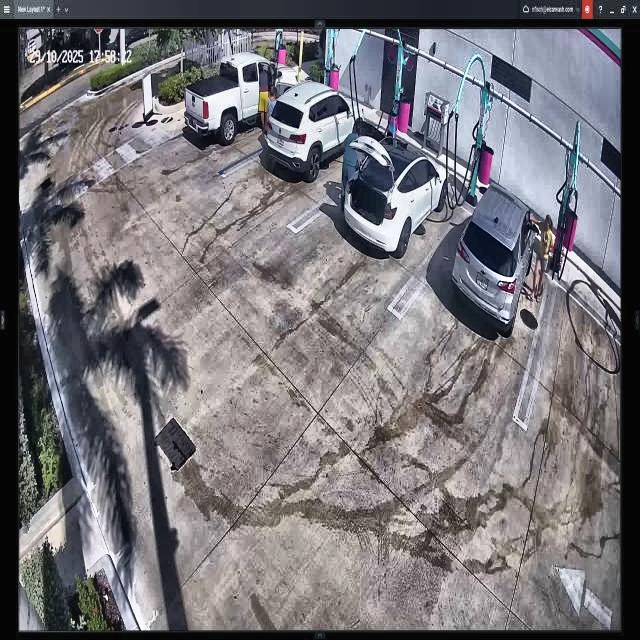Car: (341, 130, 447, 261), (450, 184, 538, 337), (258, 80, 362, 183)
